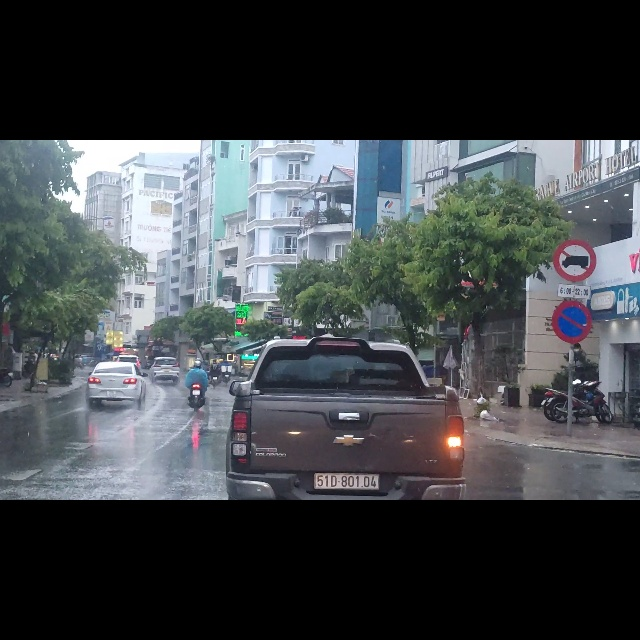bien_cam: (553, 177, 597, 253), (552, 283, 592, 361)
